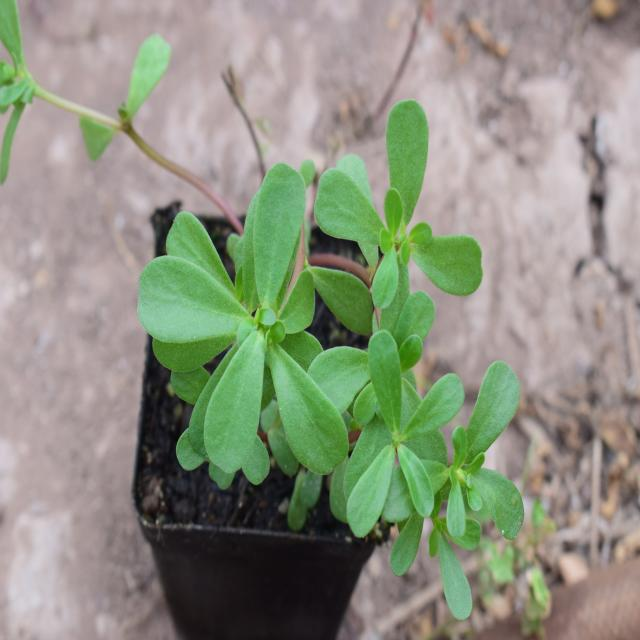purslane: (134, 109, 530, 598)
